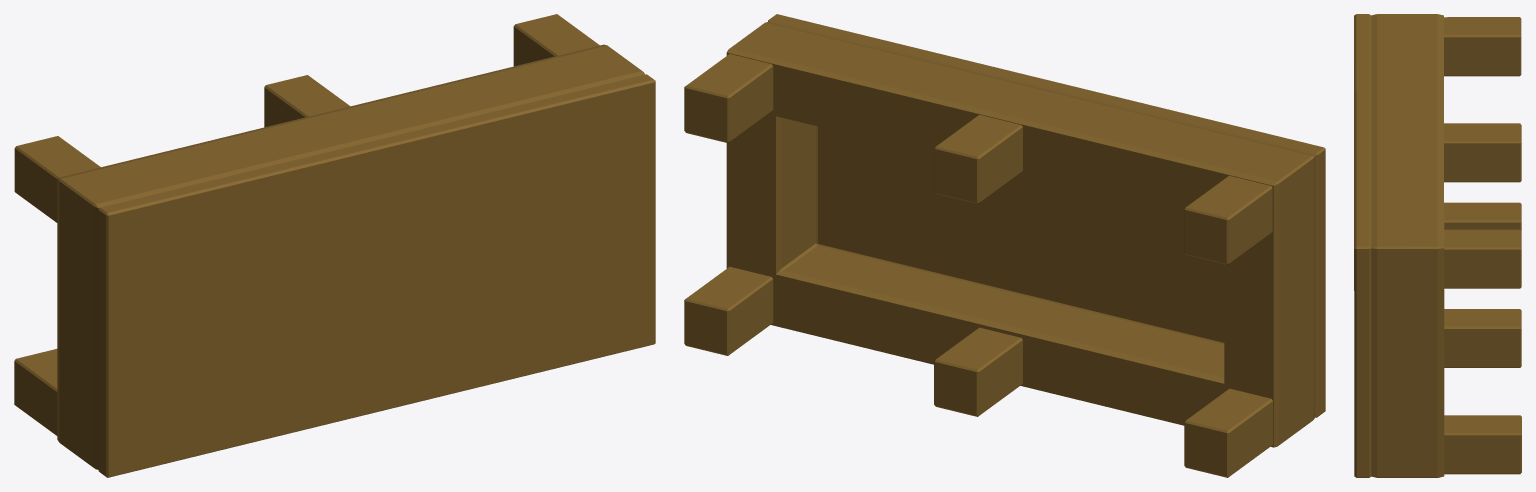
File: Fp228_Cube_1199CoffeeTable_228_0.obj
The picture shows the model from 3 angles, left to right: view 1: azimuth 30°, elevation 25°; view 2: azimuth 150°, elevation 25°; view 3: azimuth 270°, elevation 25°; orthographic projection. The views are drawn at different scales.
Parts seen in each view (by area): view 1: CoffeeTable_228; view 2: CoffeeTable_228; view 3: CoffeeTable_228.
Boxes of the visible parts, x1,y1,x2,y2 form: CoffeeTable_228: (14, 14, 655, 477); CoffeeTable_228: (684, 14, 1325, 477); CoffeeTable_228: (1354, 14, 1521, 477).
Size of the model in its own units: 1.32 by 0.6067 by 0.3989.
